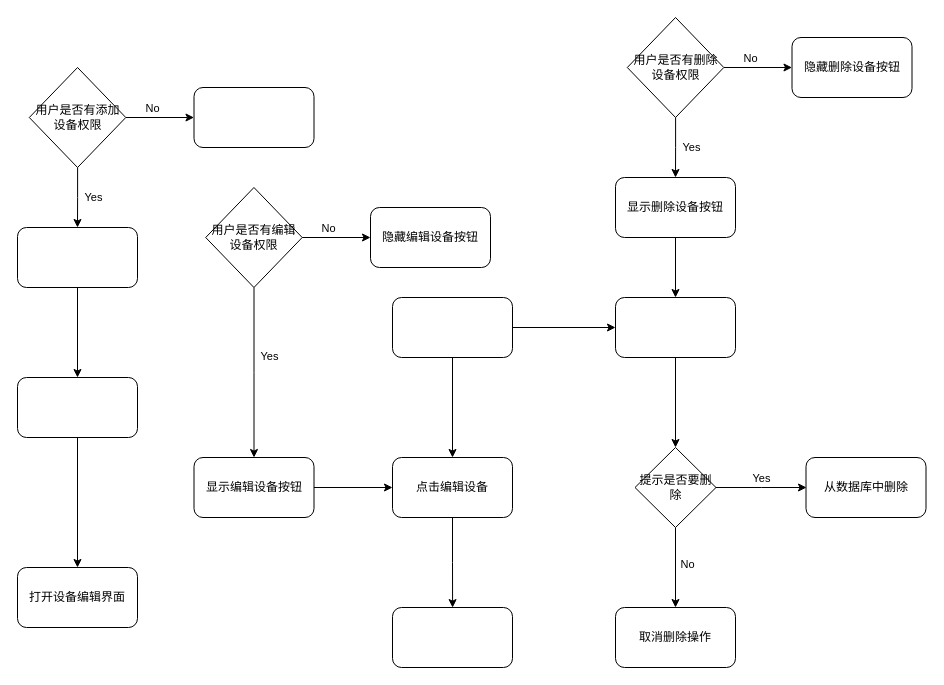
The diagram is 944 pixels wide and 685 high, and some of its shapes have lost their labels. Each missing label, with the centre of its shape:
打开设备编辑界面并传入当前设备的值: point 452,637
显示添加设备按钮: point 77,257
点击DatatGaridView里的元素: point 452,327
点击删除设备: point 675,327
点击添加设备: point 77,407
隐藏添加设备按钮: point 253,117
